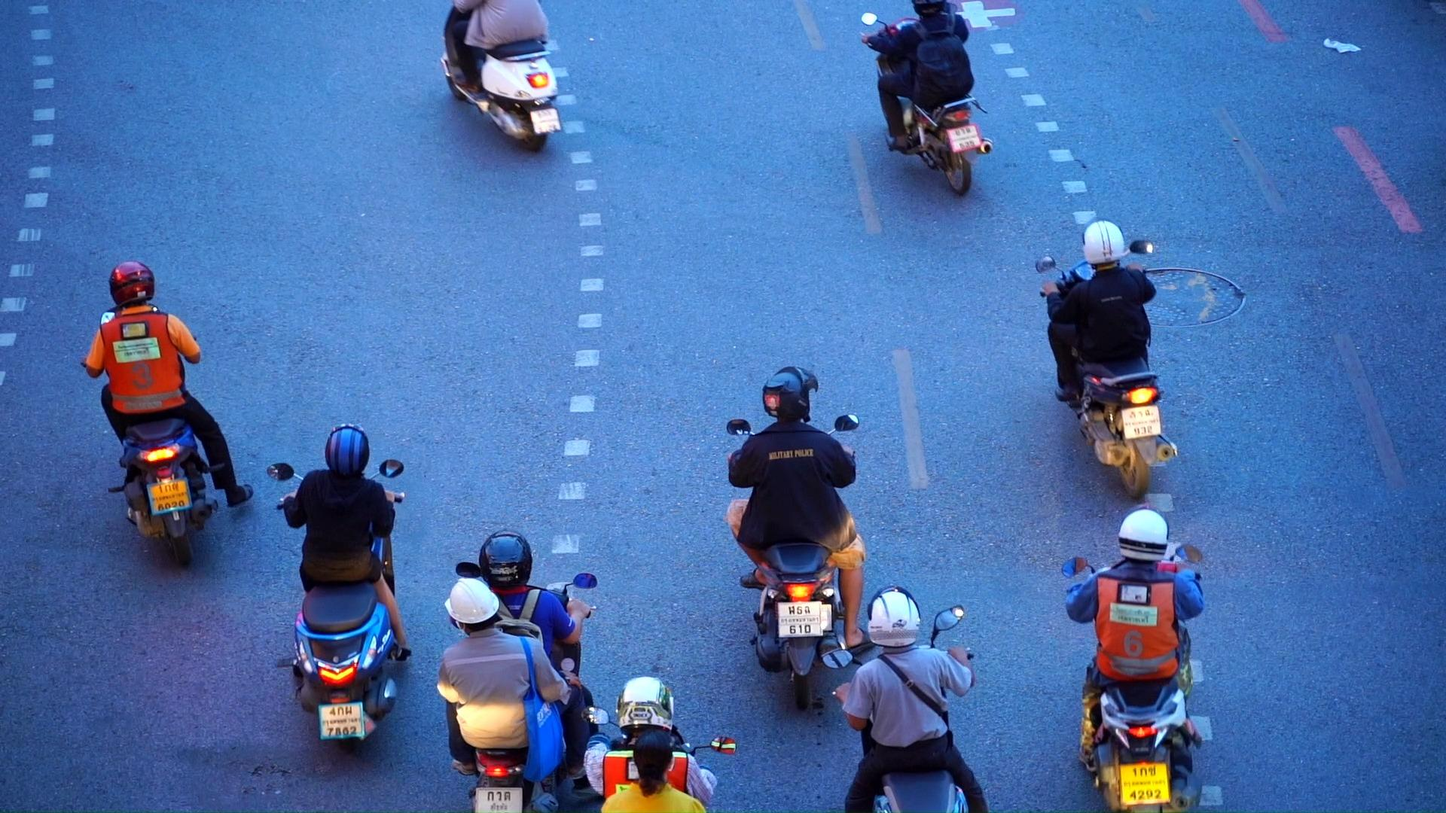driver: (725, 366, 878, 712), (81, 261, 253, 567), (266, 423, 412, 753), (437, 529, 603, 813), (1062, 502, 1203, 813), (1035, 216, 1180, 500), (820, 584, 993, 813), (861, 0, 994, 198), (581, 676, 736, 813), (441, 0, 562, 155)
helmet: (615, 676, 674, 743), (867, 585, 921, 648), (479, 529, 533, 591), (761, 366, 819, 423), (444, 577, 500, 636), (1118, 502, 1169, 561), (325, 423, 369, 478), (1081, 216, 1125, 270), (109, 261, 155, 309), (911, 0, 946, 21)
no-helmet: (633, 729, 675, 798)
